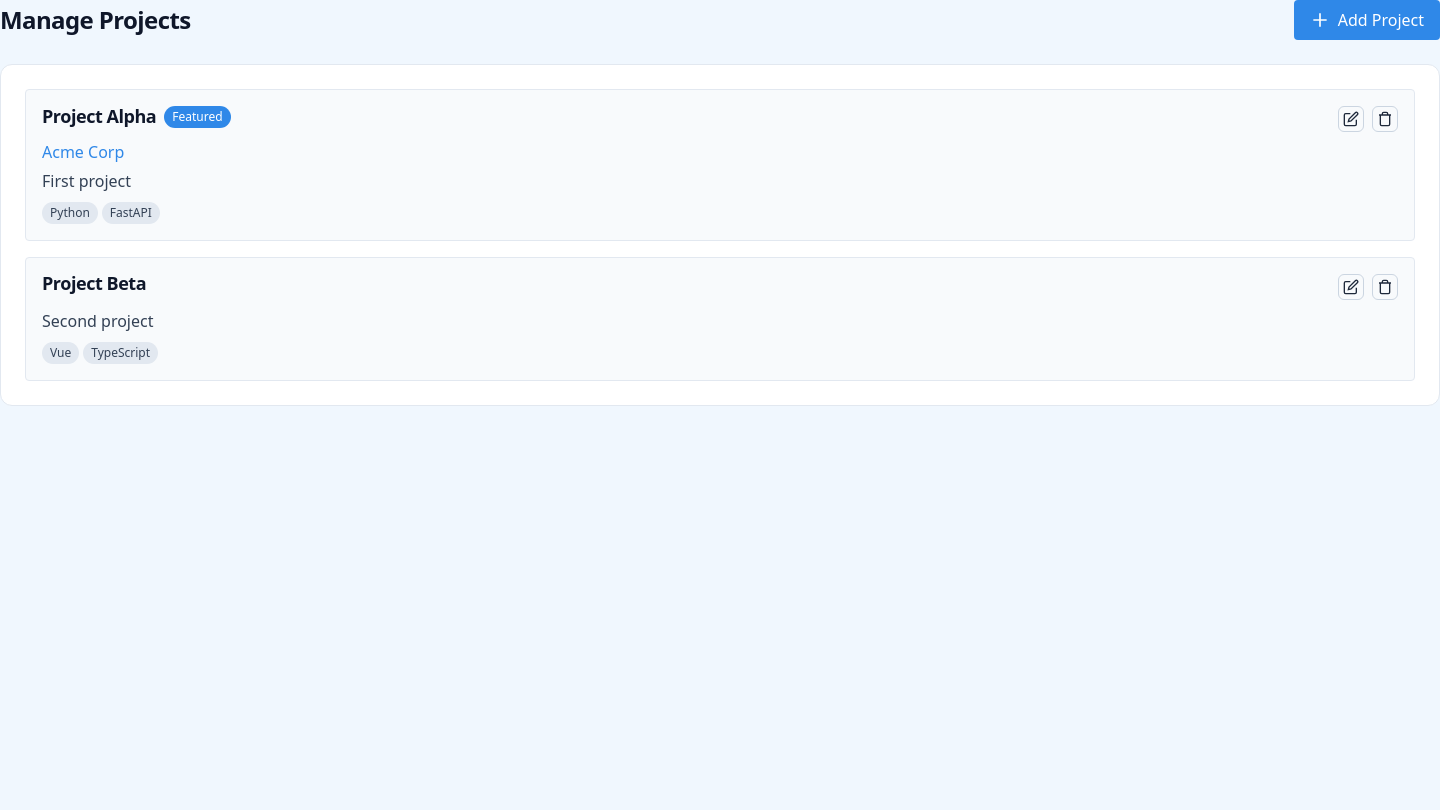
it: AdminProjects › Edit form › pre-fills form with project data
Click the 1st button with class "edit-btn" at (1351, 119), box [1338, 106, 1364, 132]
(page scrolled)
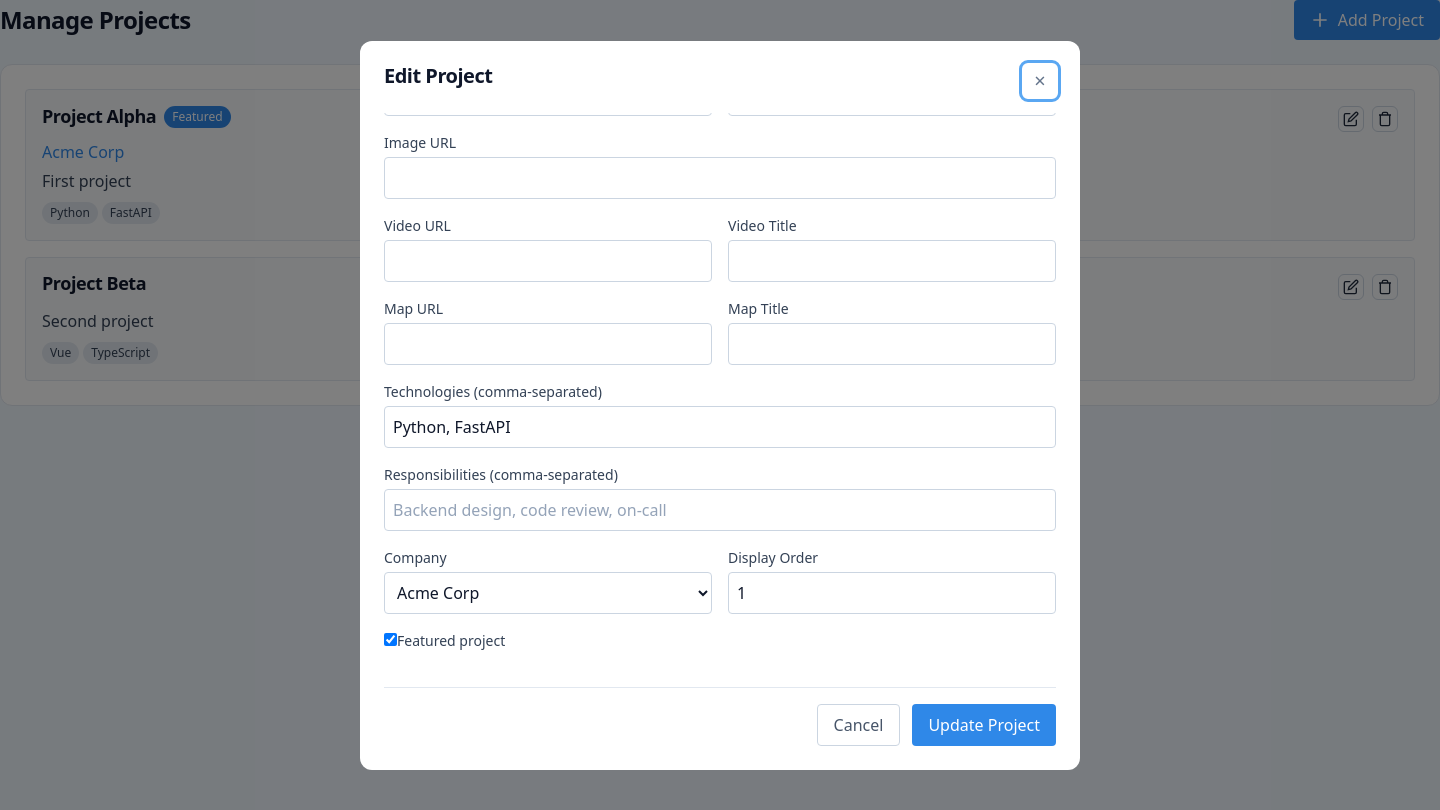
Expected: the heading with class "modal-title" reads "Edit Project", [384, 62, 492, 88]
Expected: the field with id "technologies" holds "Python, FastAPI", [384, 406, 1056, 448]
Expected: the checkbox with id "featured" is checked, [384, 632, 397, 646]
